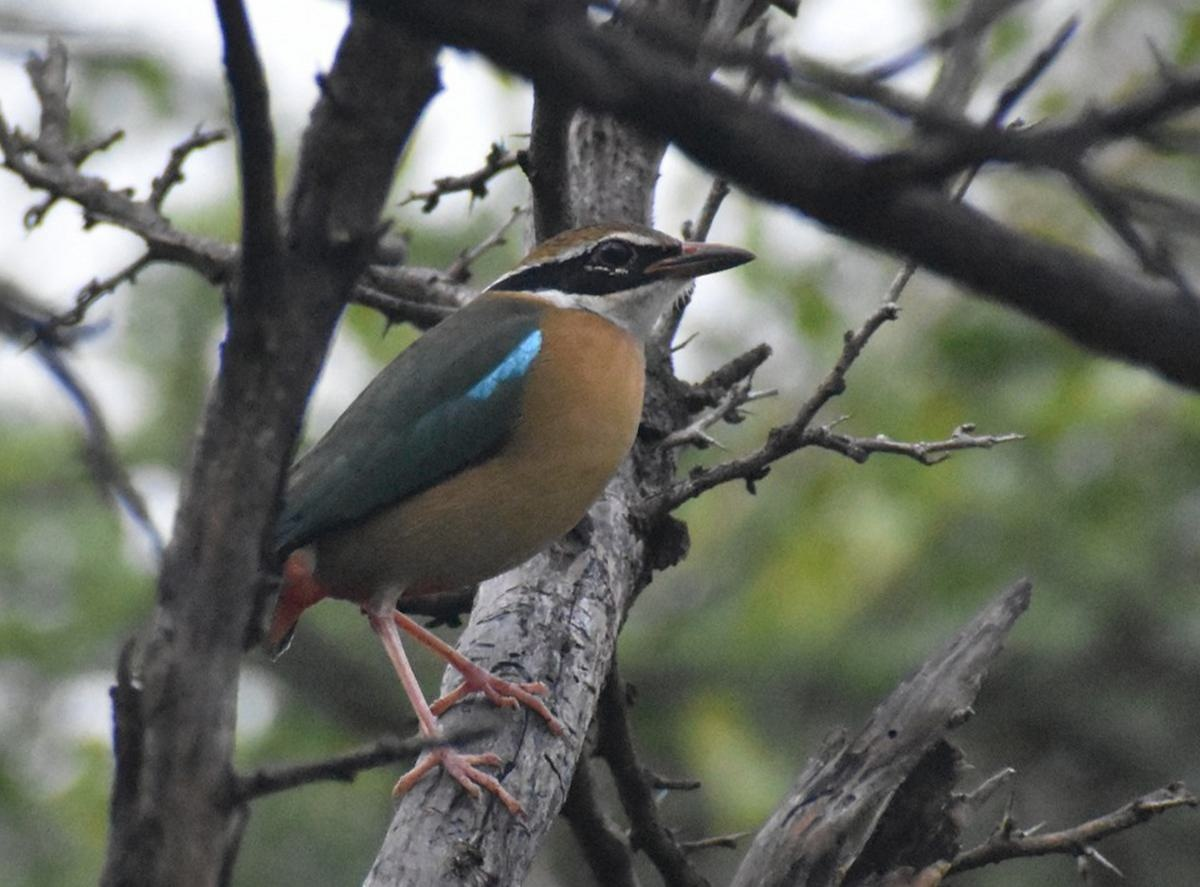pitta: (207, 199, 777, 794)
